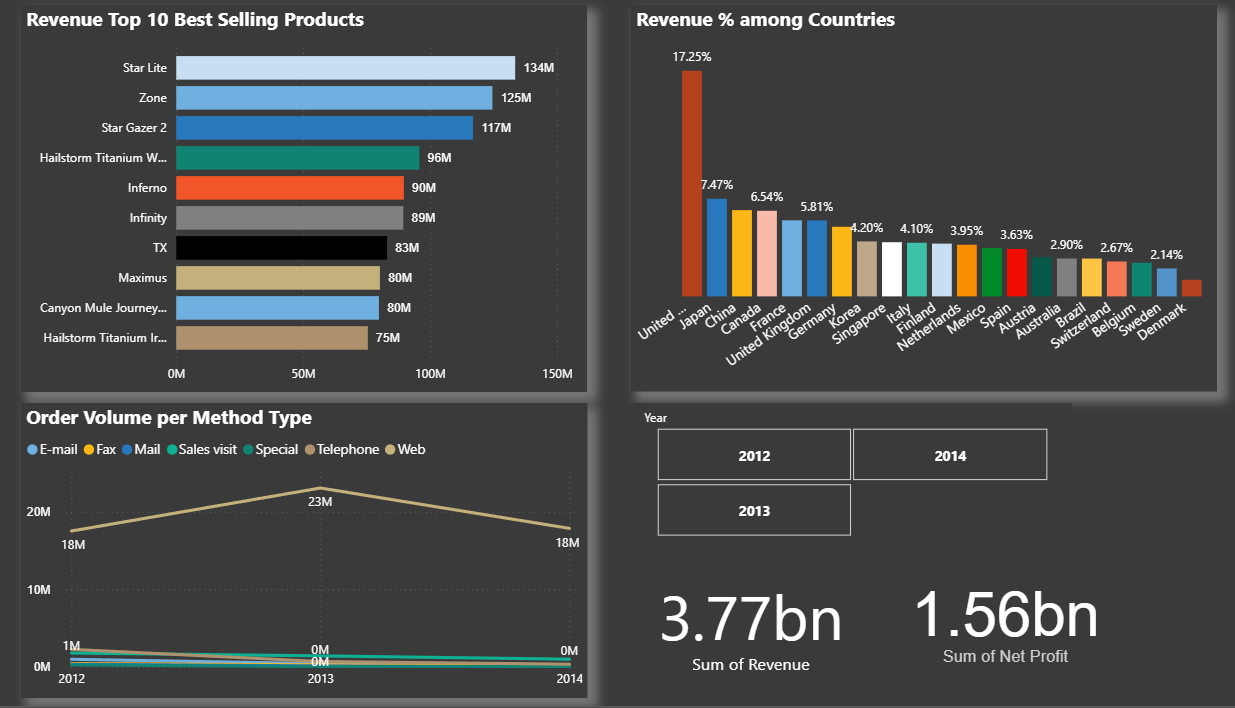

The page's visual inventory and layout, read from the dashboard file:
{"tool":"powerbi","page":{"name":"Page 2","canvas":[1280,720],"ordinal":1},"visuals":[{"type":"lineChart","title":"Revenue Top 10 Best Selling Products","fields":{"Category":["WASales.Year"],"Y":["Sum(WASales.Revenue)"],"Series":["WASales.Product"]},"box":[61.3,37.9,551.5,376.4],"z":0},{"type":"columnChart","title":"Revenue % among Countries","fields":{"Y":["Sum(WASales.Revenue)","select"],"Category":["WASales.Retailer country"]},"box":[654.6,37.9,570,376.4],"z":1000},{"type":"lineChart","title":"Order Volume per Method Type","fields":{"Category":["WASales.Year"],"Series":["WASales.Order method type"],"Y":["Sum(WASales.Quantity)"]},"box":[61.3,425,551.5,286.9],"z":2000},{"type":"slicer","fields":{"Values":["WASales.Year"]},"box":[654.6,425,428.9,136.2],"z":3000},{"type":"card","fields":{"Values":["Sum(WASales.Revenue)"]},"box":[673.1,569,196.5,143],"z":4000},{"type":"card","fields":{"Values":["Sum(WASales.Net Profit)"]},"box":[919.1,569,199.4,130.3],"z":4001}]}

Visuals, with their boxes in screenshot pixels (x1, y1, x2, y2), scaled from the page's 1280x720 canvas onto the 1235x708 screenshot:
"Revenue Top 10 Best Selling Products" lineChart: {"left": 59, "top": 37, "right": 591, "bottom": 407}
"Revenue % among Countries" columnChart: {"left": 632, "top": 37, "right": 1182, "bottom": 407}
"Order Volume per Method Type" lineChart: {"left": 59, "top": 418, "right": 591, "bottom": 700}
slicer - WASales.Year: {"left": 632, "top": 418, "right": 1045, "bottom": 552}
card - Sum(WASales.Revenue): {"left": 649, "top": 560, "right": 839, "bottom": 700}
card - Sum(WASales.Net Profit): {"left": 887, "top": 560, "right": 1079, "bottom": 688}
